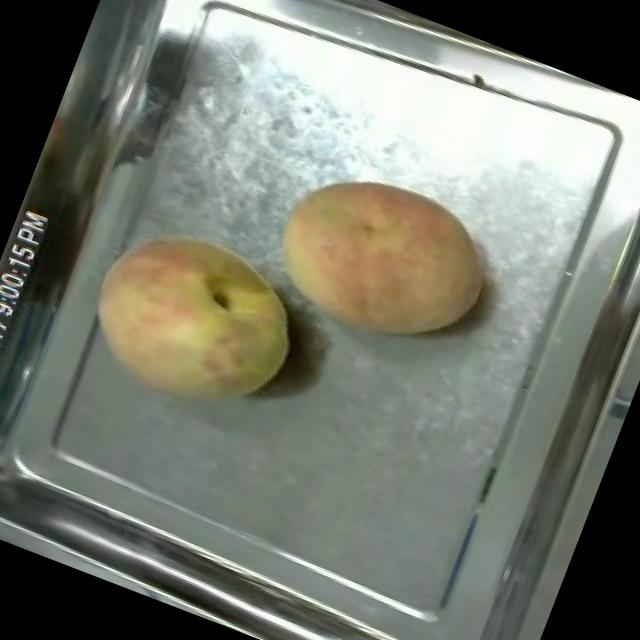Fruit: (64, 200, 326, 442), (246, 140, 514, 376)
